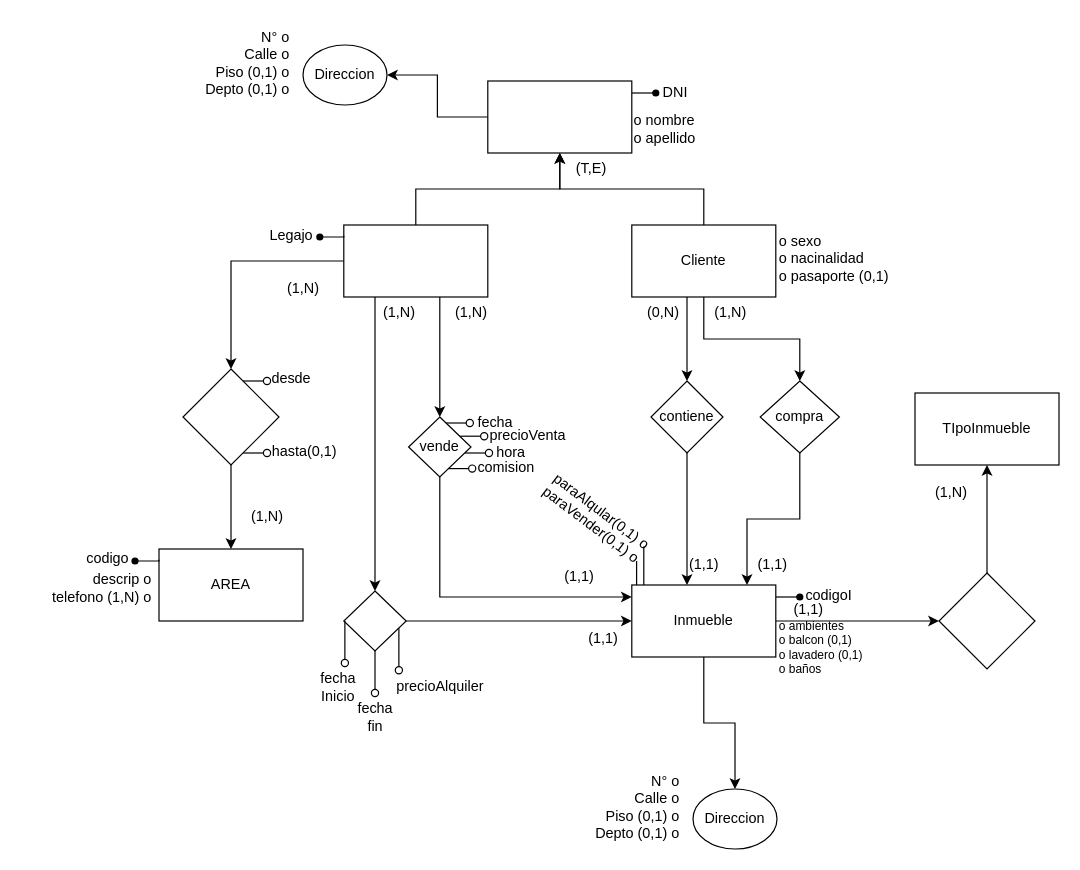
Image size: 1080x870. Some labels were removed from this diagram. Here are the shapes that lost their labels. From the top down, the centre of each, then its label:
At pixel 559 116: "Persona".
At pixel 415 260: "Empleado".
At pixel 230 416: "trabaja".
At pixel 374 620: "alquila".
At pixel 986 620: "tiene".
